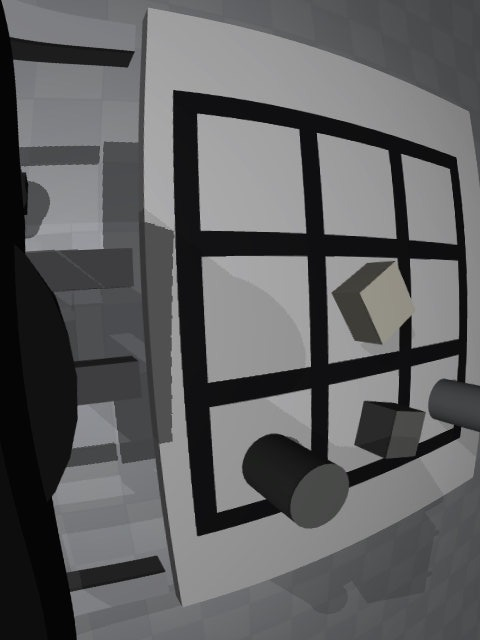can: (428, 378, 480, 432)
cube: (354, 401, 426, 459)
cylinder: (242, 433, 350, 529)
foam: (331, 261, 416, 345)
